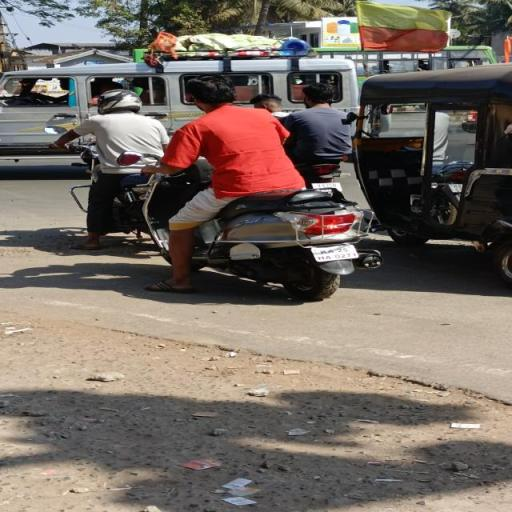bike: (121, 70, 388, 301)
numberplate: (310, 238, 362, 265)
withouthelmet: (186, 75, 236, 105)
